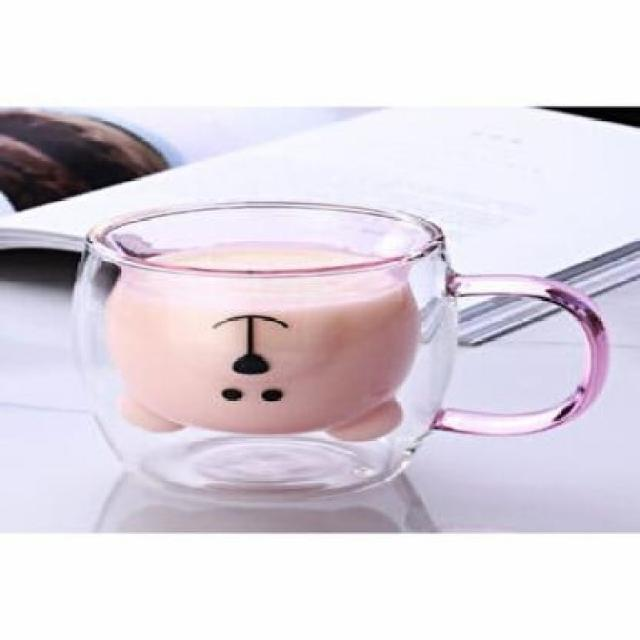taza: (77, 198, 606, 488)
